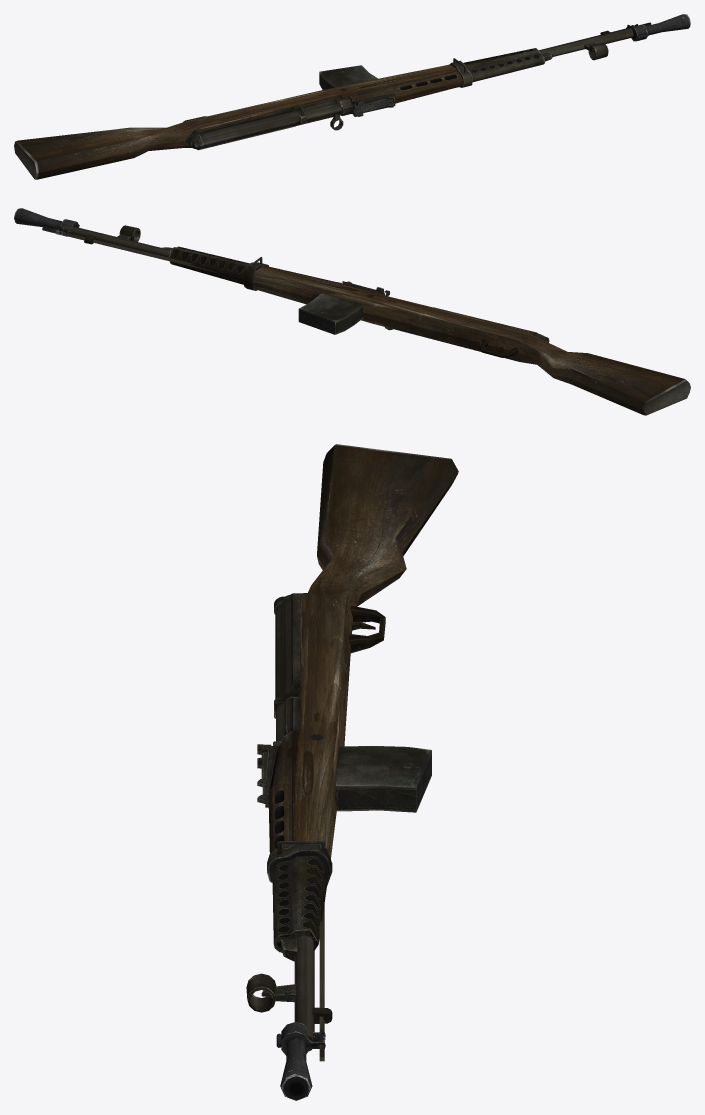
Rendered from weapon_rus_svt40_rifle_silent_LOD01.obj.
3 views of the same model, one above another, from view 1: azimuth 30°, elevation 25°; view 2: azimuth 150°, elevation 25°; view 3: azimuth 270°, elevation 25° (orthographic). The views are drawn at different scales.
Parts seen in each view (by area): view 1: TomGroup_1, TomGroup_0, TomGroup_2; view 2: TomGroup_1, TomGroup_0, TomGroup_2; view 3: TomGroup_1, TomGroup_0, TomGroup_2.
Part boxes in pixels (left/top/right/bottom): TomGroup_1: left=14, top=64, right=462, bottom=179; TomGroup_0: left=183, top=22, right=651, bottom=150; TomGroup_2: left=626, top=14, right=690, bottom=41; TomGroup_1: left=253, top=266, right=690, bottom=415; TomGroup_0: left=42, top=225, right=549, bottom=358; TomGroup_2: left=14, top=208, right=79, bottom=236; TomGroup_1: left=268, top=444, right=458, bottom=858; TomGroup_0: left=246, top=593, right=431, bottom=1061; TomGroup_2: left=276, top=1022, right=325, bottom=1100.
Bounding box in the file's own units: 133 × 6.96 × 19.05.
Materials: 3 (3 with a texture image).
